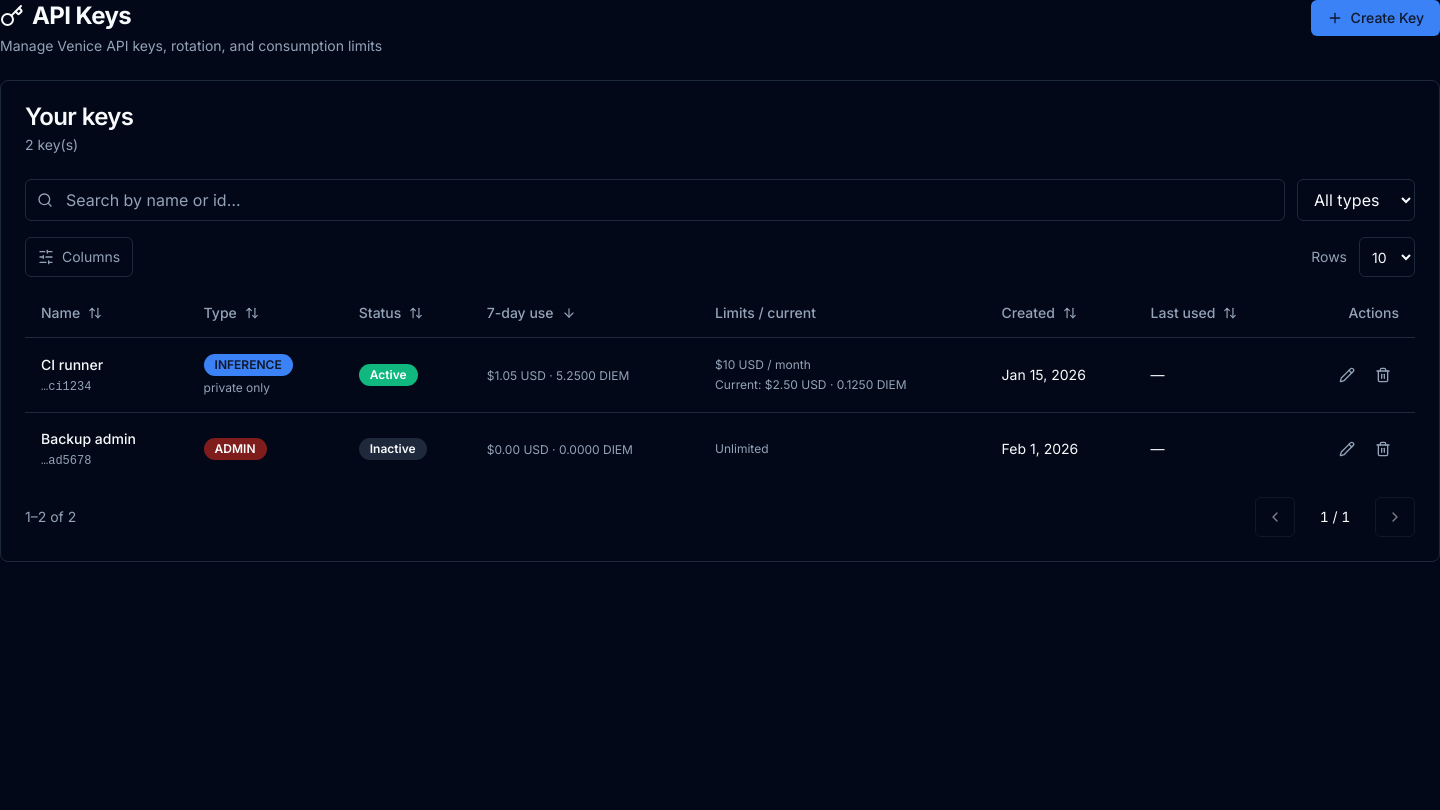
Scenario: ApiKeysView — delete flow › opens delete confirmation when trash clicked
Step 1. Click the button named "delete ci runner" → point(1383, 374), box [1367, 358, 1399, 390]
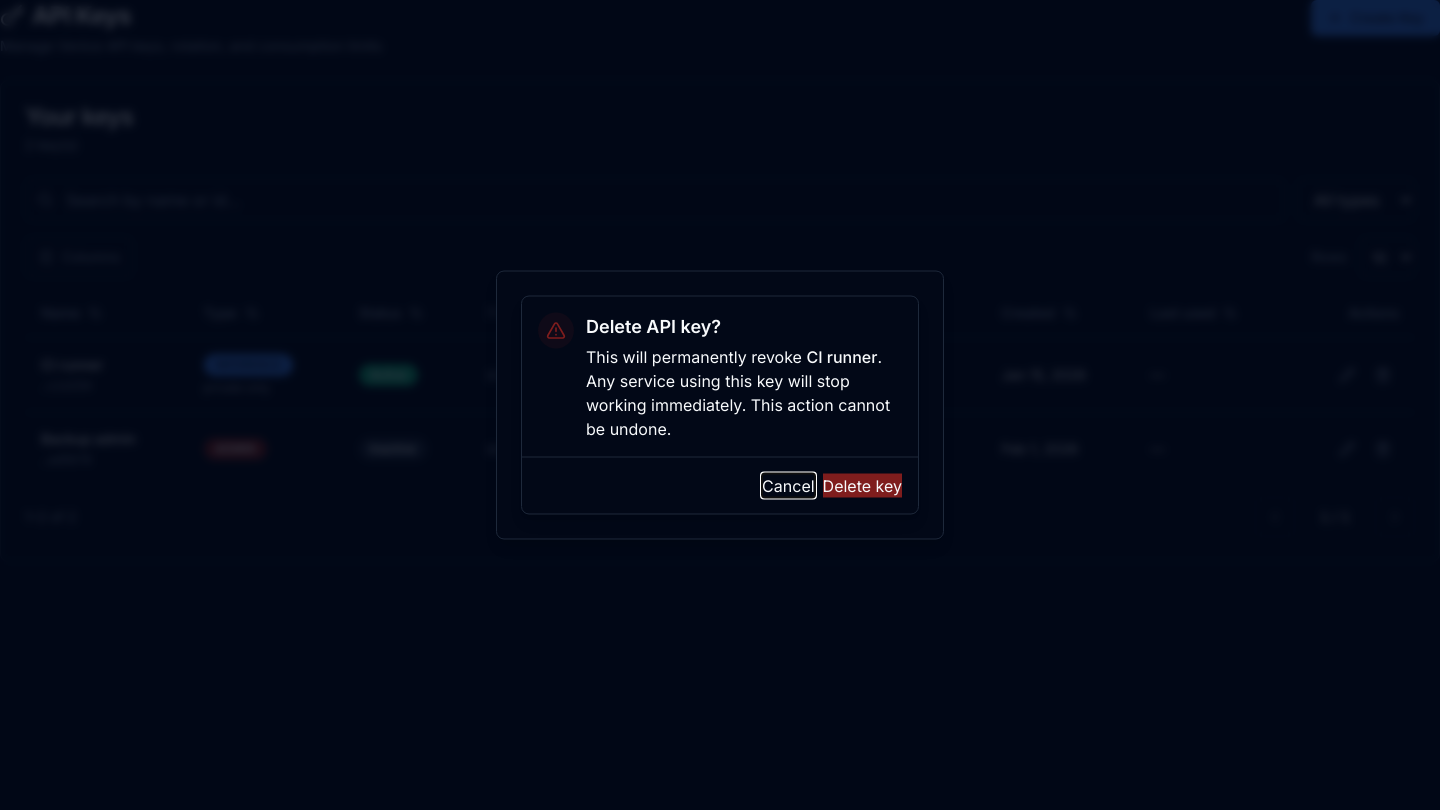
Expected: the dialog "Delete API key" is shown, [496, 270, 944, 540]
Expected: the text "This will permanently revoke" is shown, [586, 346, 806, 366]
